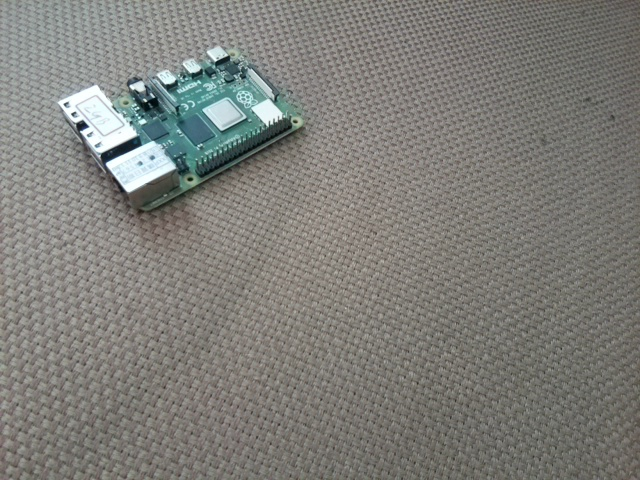Pi4: (53, 41, 314, 218)
